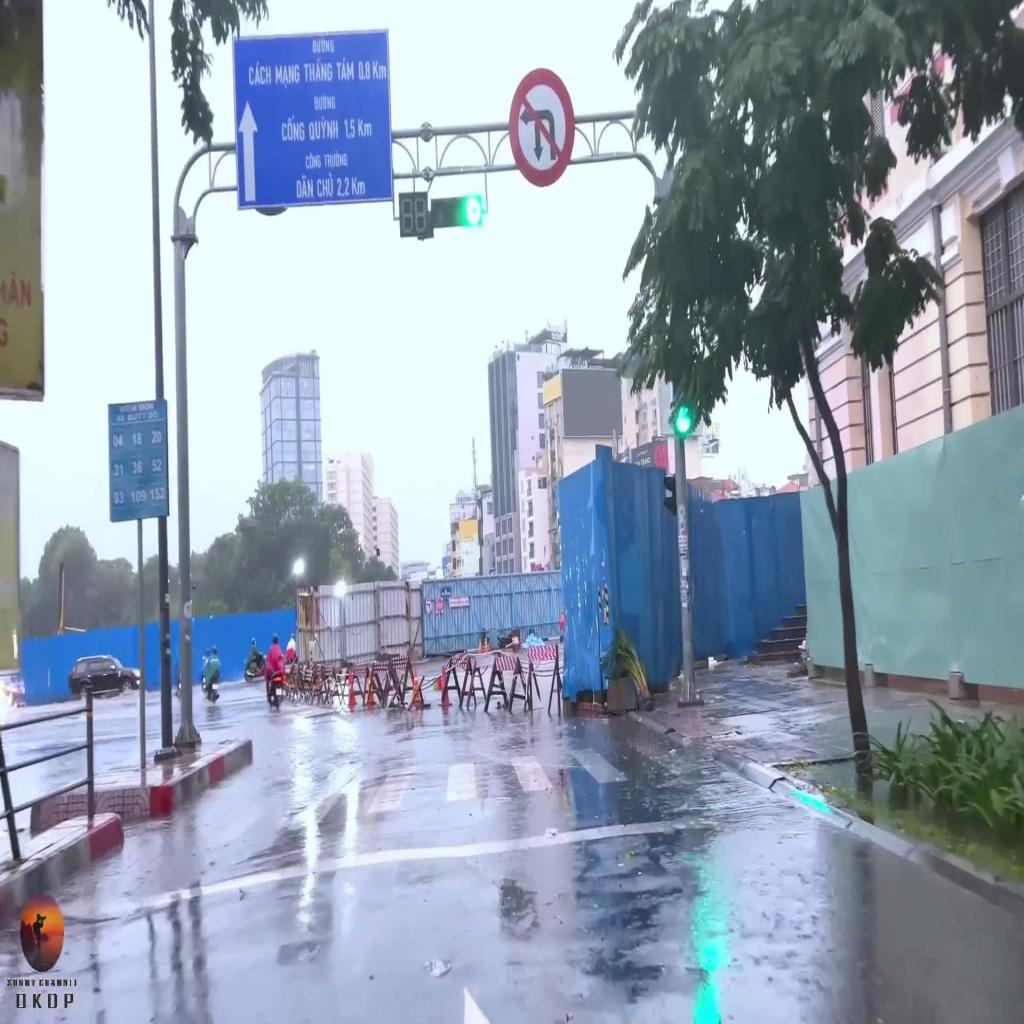cam_re_trai: (427, 600, 433, 613)
khac: (233, 34, 390, 210), (510, 73, 572, 181)
